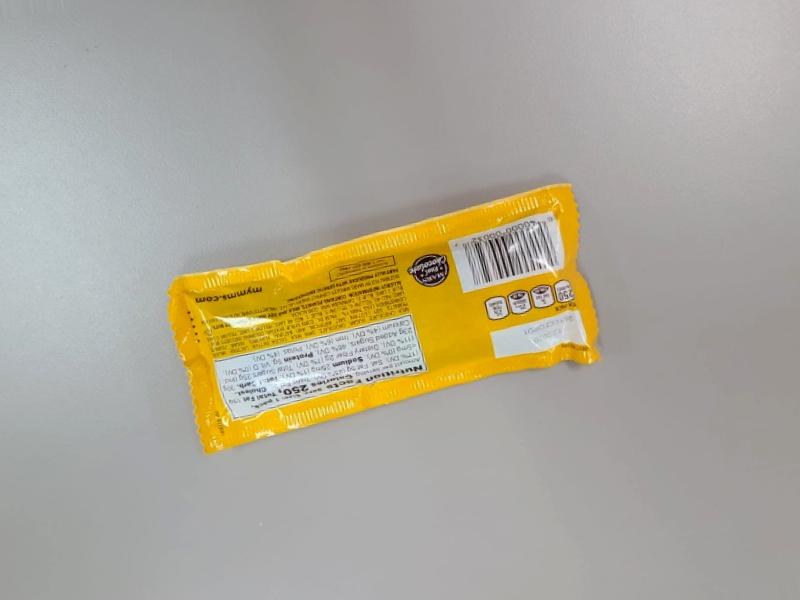m&m: (159, 171, 594, 466)
